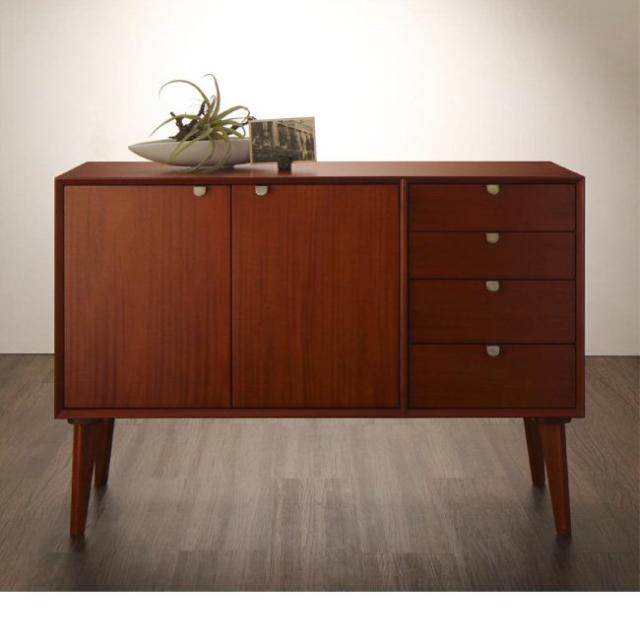vintage shelf: (52, 159, 588, 546)
